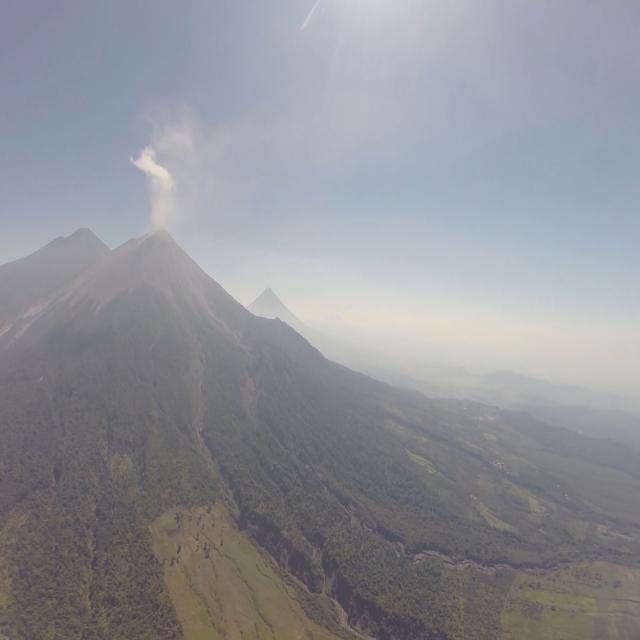Plume: (130, 146, 180, 235)
Summit: (132, 218, 177, 254)
